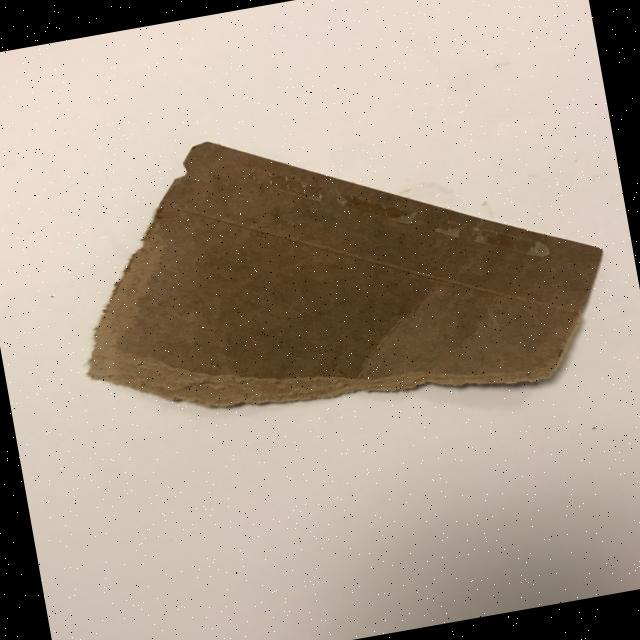paper: (49, 75, 624, 459)
